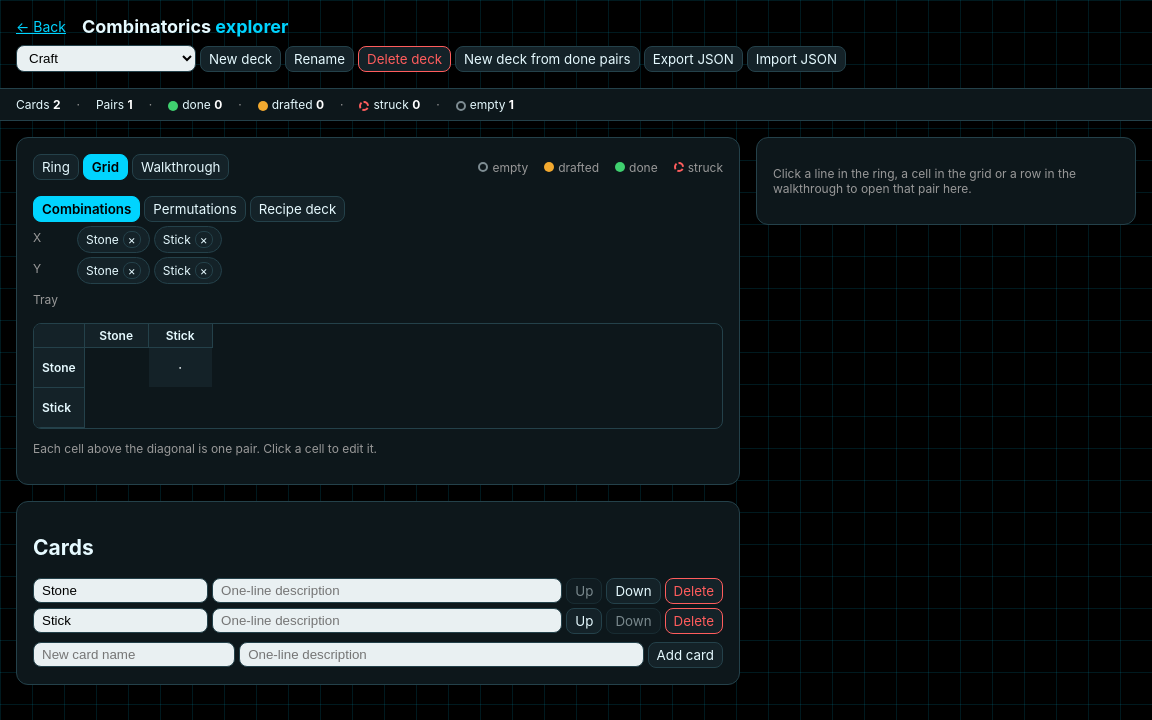
Test: CombinationsPage recipe › shows no badges and keeps Name in a plain deck
Click the button named "Stone + Stick:" at (181, 368), box [149,348,213,388]
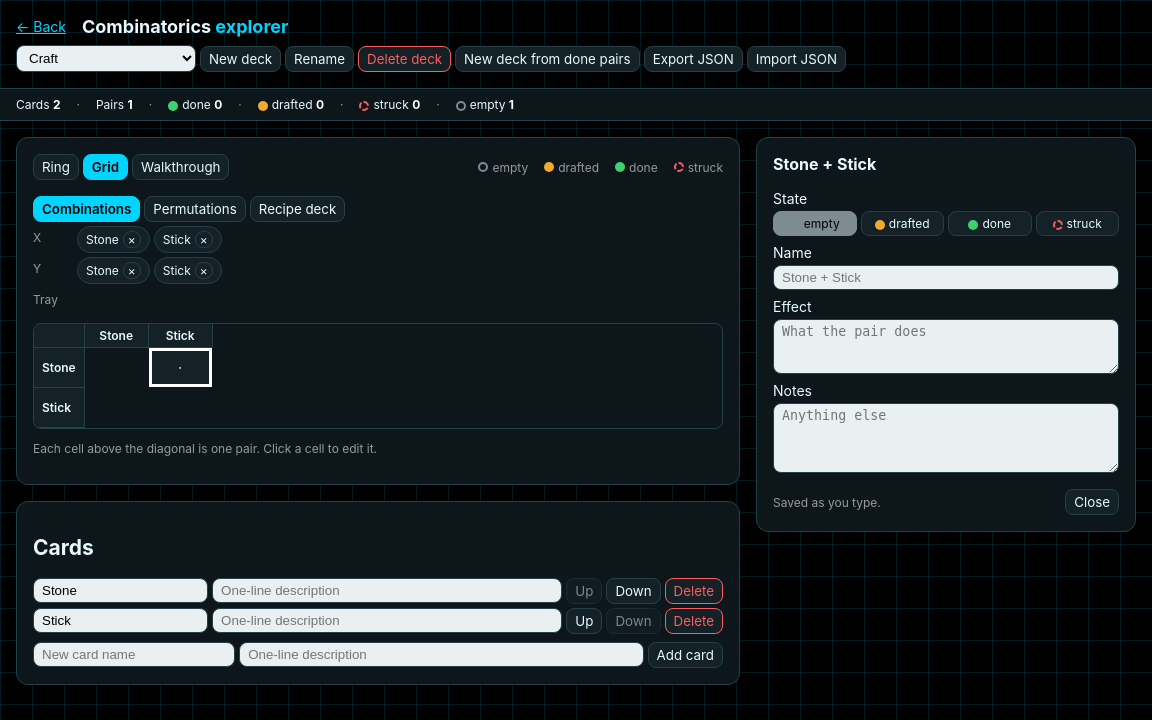
Check: the field labelled "Name" is shown, box [773,265,1119,290]
